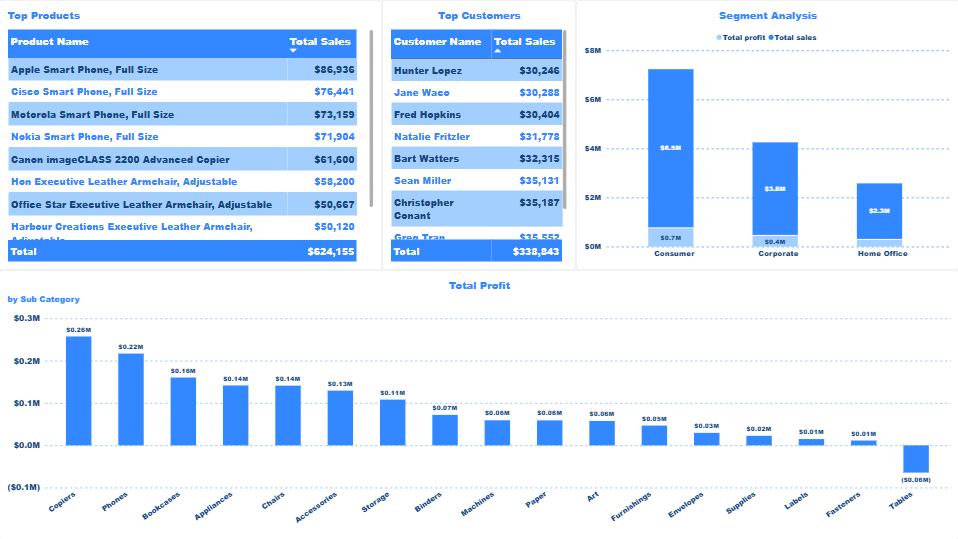

Layout of this report page (visuals, bound fields, positions):
{"tool":"powerbi","page":{"name":" Product & Customer Insights","canvas":[1920,1080],"ordinal":3},"visuals":[{"type":"tableEx","title":"Top Products","fields":{"Values":["cleaned_df.product_name","Sum(cleaned_df.sales)"]},"box":[0,0,766.5,540.4],"z":0},{"type":"tableEx","title":"Top Customers","fields":{"Values":["cleaned_df.customer_name","Sum(cleaned_df.sales)"]},"box":[766.5,0,387.1,540.4],"z":1000},{"type":"columnChart","fields":{"Category":["cleaned_df.sub_category"],"Y":["Sum(cleaned_df.profit)"]},"box":[0,540.4,1920,540.4],"z":2000},{"type":"columnChart","title":"Segment Analysis","fields":{"Category":["cleaned_df.segment"],"Y":["Sum(cleaned_df.profit)","Sum(cleaned_df.sales)"]},"box":[1153.5,0,766.5,540.4],"z":3000}]}

Visuals, with their boxes in screenshot pixels (x1, y1, x2, y2), scaled from the page's 1920x1080 canvas onto the 958x539 screenshot:
"Top Products" tableEx: <box>0,0,382,270</box>
"Top Customers" tableEx: <box>382,0,576,270</box>
columnChart - cleaned_df.sub_category x Sum(cleaned_df.profit): <box>0,270,957,538</box>
"Segment Analysis" columnChart: <box>576,0,957,270</box>
